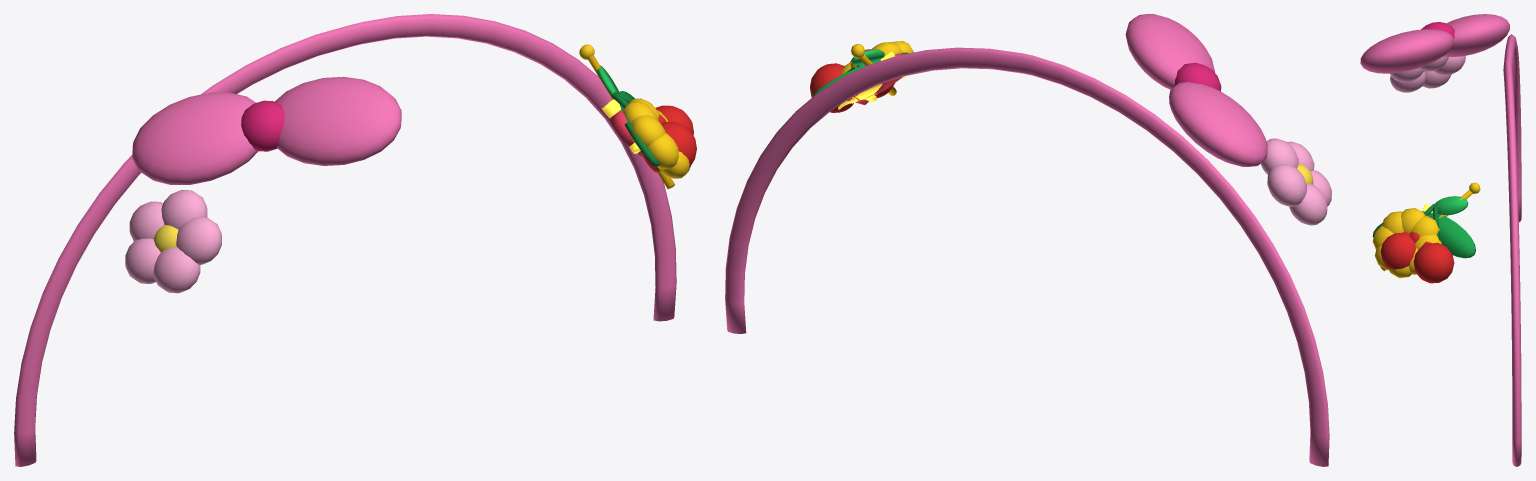
Rendered from props-x.glb.
3 views of the same model, side by side, from view 1: azimuth 30°, elevation 25°; view 2: azimuth 150°, elevation 25°; view 3: azimuth 270°, elevation 25° (orthographic). The views are drawn at different scales.
Visible parts, largest first — view 1: x-ribbon, x-flower, x-thaipin, x-cherry; view 2: x-ribbon, x-flower, x-cherry, x-thaipin; view 3: x-ribbon, x-cherry, x-thaipin, x-flower, x-holly.
Boxes of the visible parts, x1,y1,x2,y2 form: x-ribbon: (14,14,676,466); x-flower: (125,190,221,293); x-thaipin: (579,44,690,189); x-cherry: (597,65,696,172); x-ribbon: (725,14,1329,466); x-flower: (1261,138,1331,225); x-cherry: (810,49,894,112); x-thaipin: (841,41,913,95); x-ribbon: (1360,14,1521,466); x-cherry: (1380,196,1468,283); x-thaipin: (1372,182,1480,278); x-flower: (1390,56,1465,92); x-holly: (1372,211,1475,258).
Size of the model in its own units: 0.5022 by 0.2756 by 0.1403.
